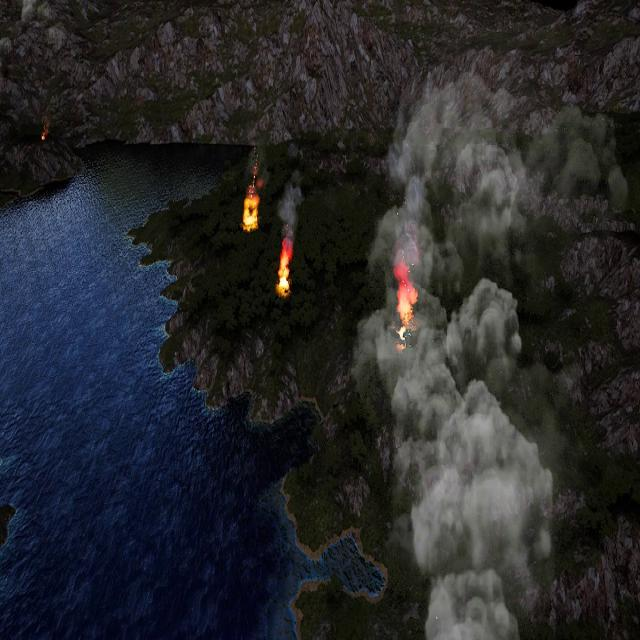fire: (395, 264, 419, 336), (278, 243, 294, 294), (241, 188, 257, 230), (41, 123, 49, 142)
smoke: (350, 80, 616, 640), (278, 168, 303, 244), (244, 145, 267, 188), (12, 0, 45, 22)
